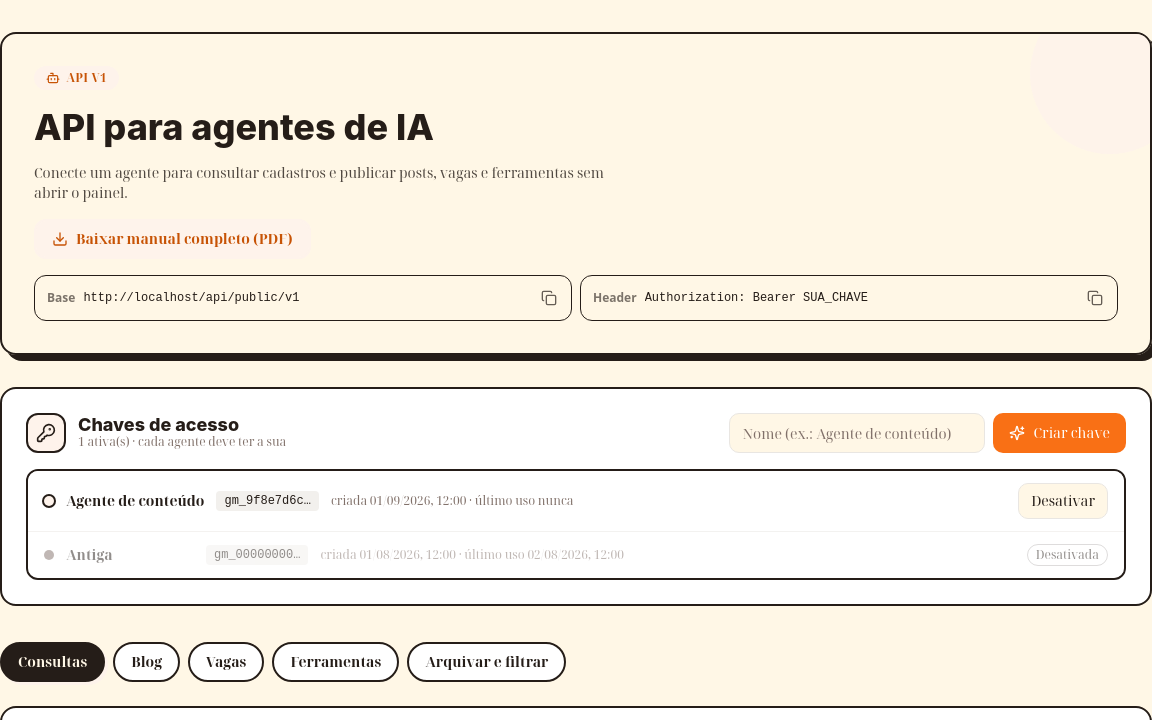
it: Chaves de acesso › cria uma chave pelo servidor e mostra o valor inteiro uma única vez
Expected: the text "Agente de conteúdo" is shown, 66,491 -> 204,511
Type "Teste" into the field named "Nome da nova chave" at (857, 433), box 729,413 -> 985,453
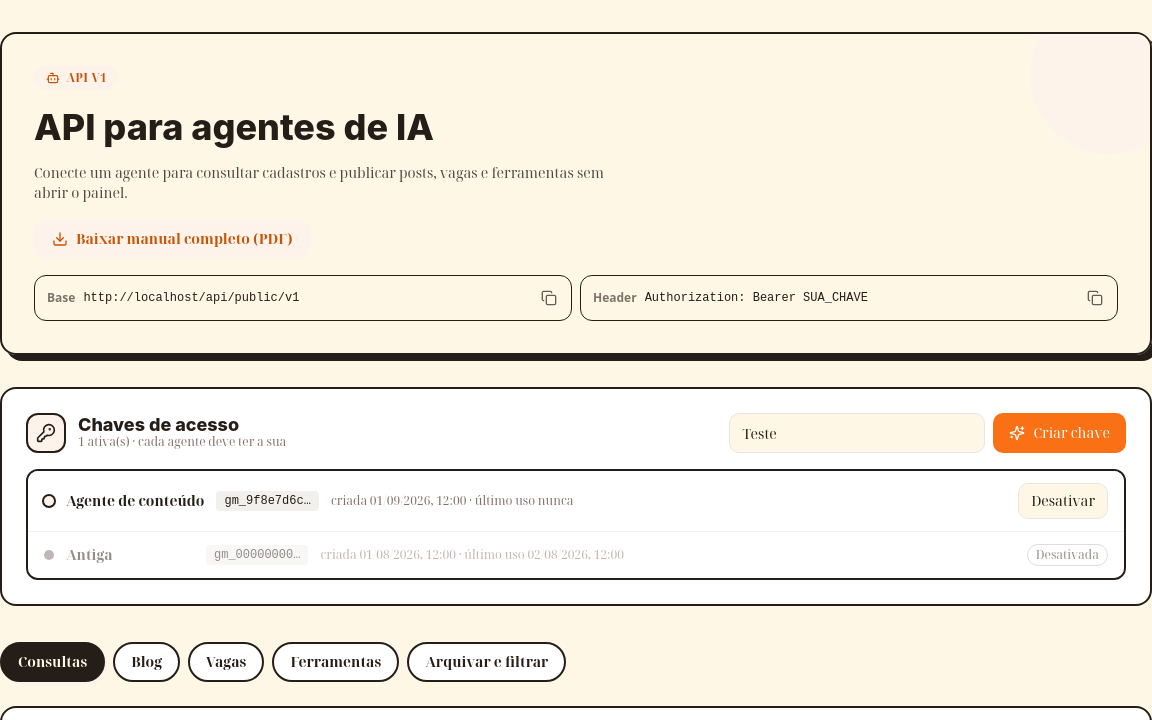
Click the button "Criar chave" at (1060, 433), box 993,413 -> 1126,453
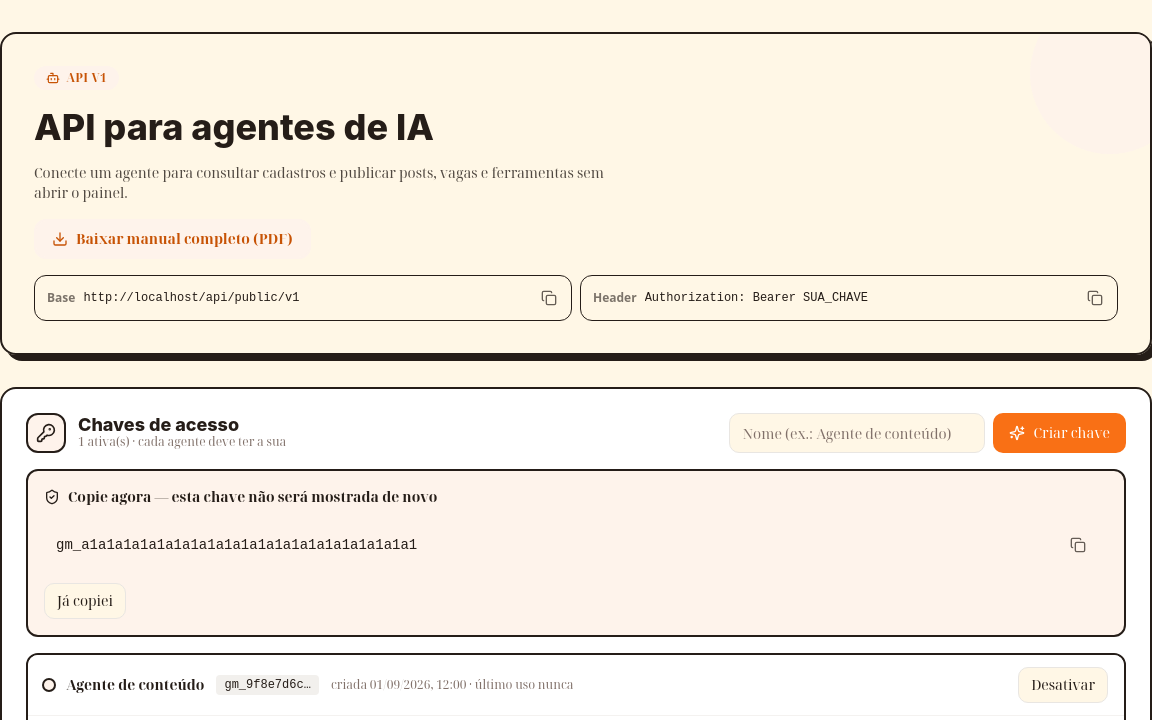
Click the button "Já copiei" at (85, 601), box 44,583 -> 126,619
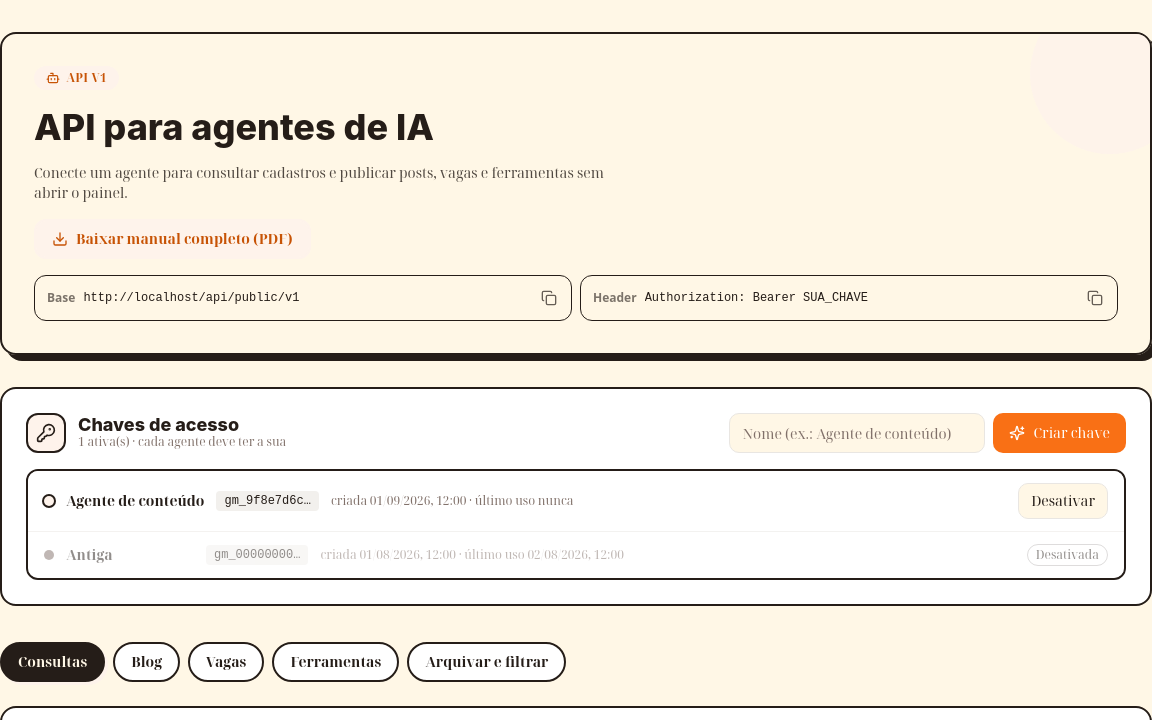
Now the message is gone
